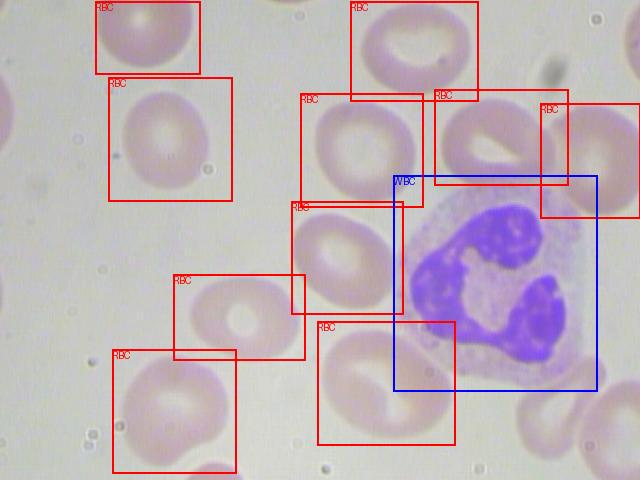RBC: (317, 321, 455, 445), (112, 349, 236, 473), (108, 77, 232, 201), (300, 93, 423, 207), (434, 89, 568, 185), (350, 1, 478, 101), (291, 201, 403, 314), (540, 103, 640, 218), (173, 274, 305, 360), (95, 1, 200, 74)
WBC: (393, 175, 597, 391)
